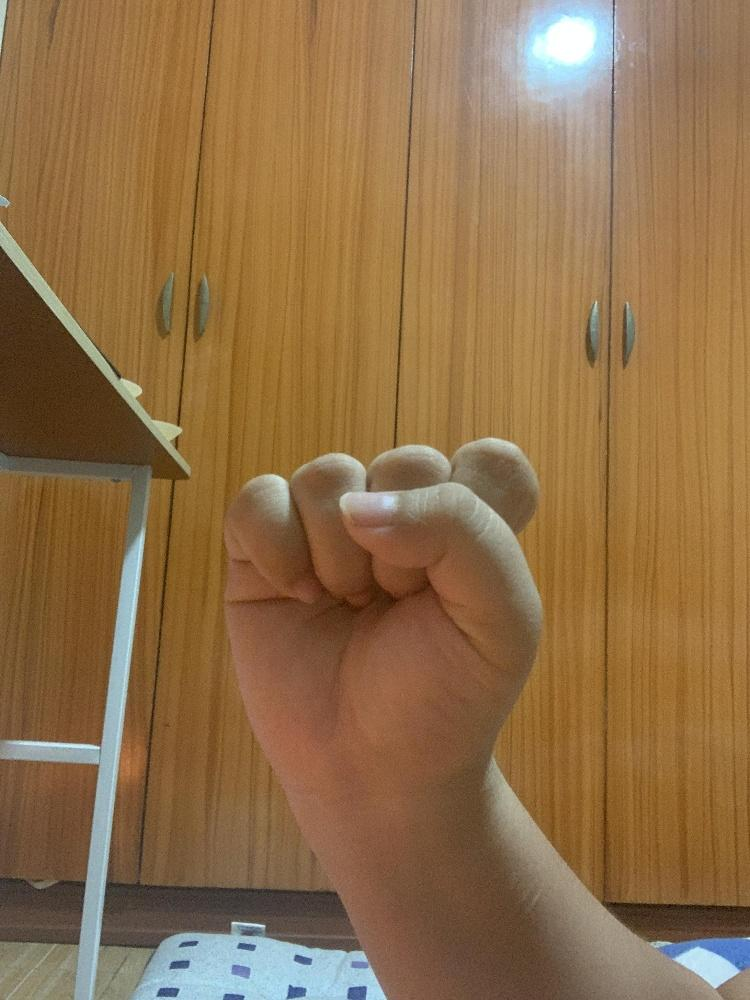s: (217, 434, 549, 795)
